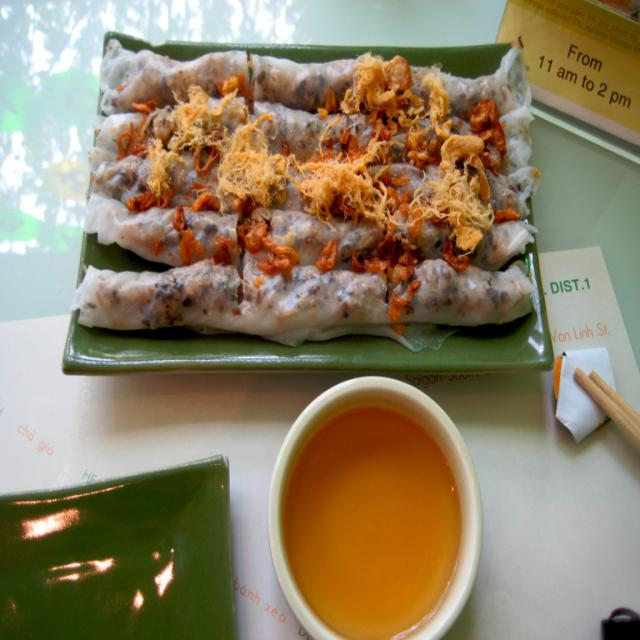Tea: (284, 406, 462, 639)
